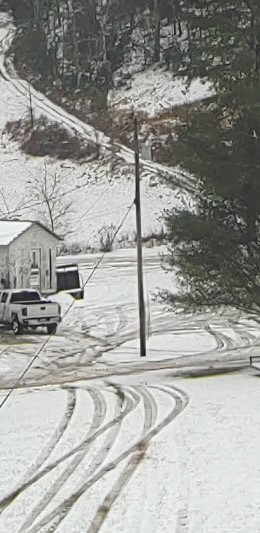pole: (110, 107, 183, 364), (15, 70, 54, 143)
